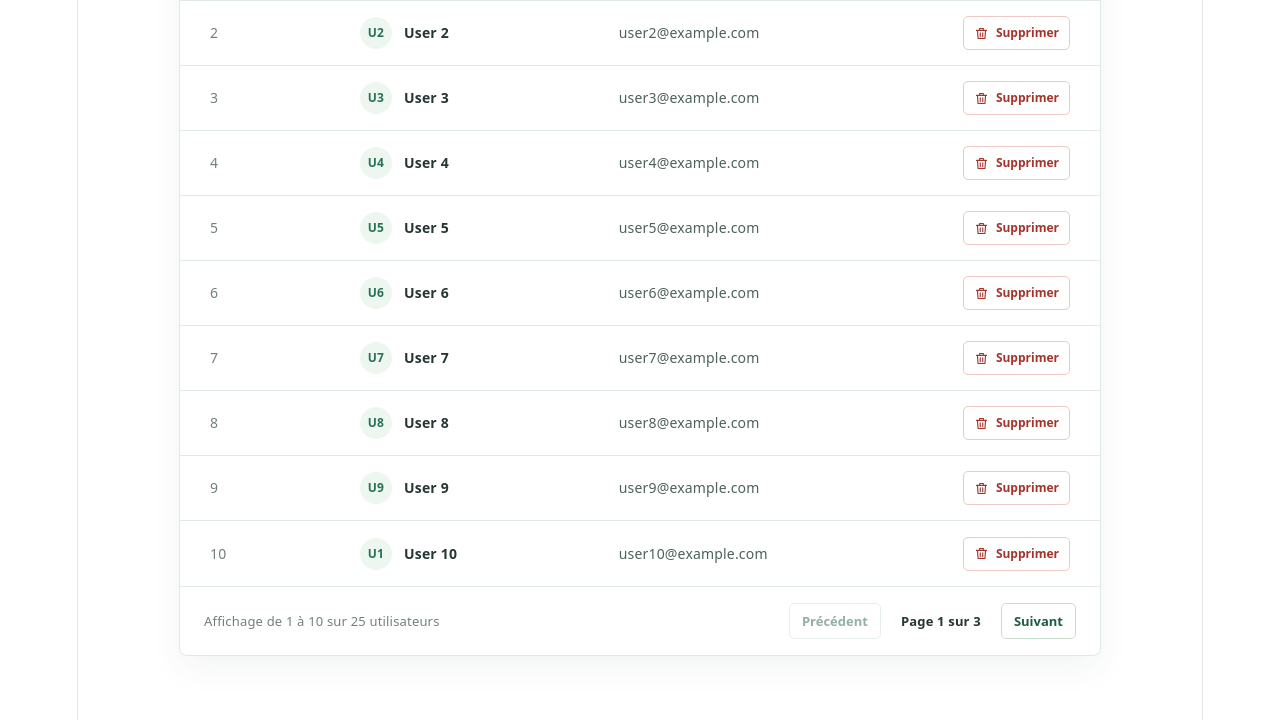
Test: UsersList changement de page sans décalage › affiche l’erreur avec Réessayer si le changement de page échoue
(page scrolled)
Click the button with class "next-page" at coordinates (1038, 621), box 1001,603 -> 1076,639
(page scrolled)
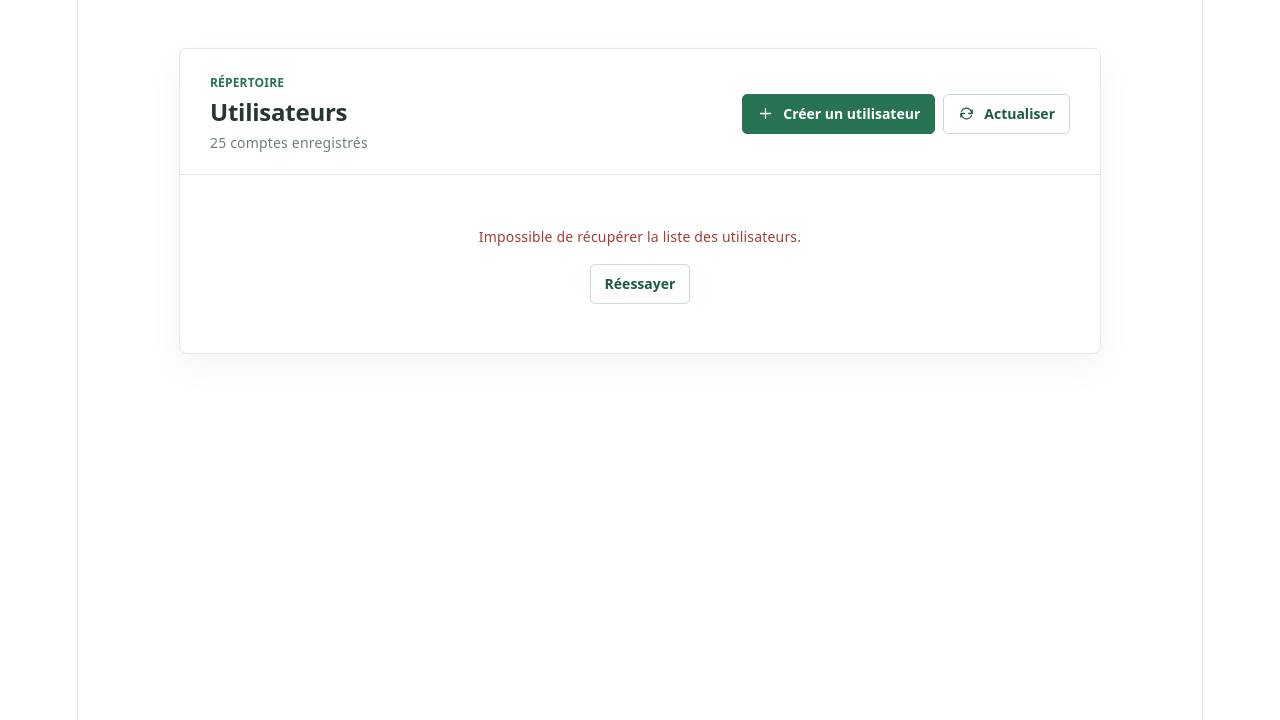
Expected: the message "Impossible de récupérer la liste des utilisateurs. Réessayer" is shown, 479,227 -> 801,304
Expected: the button with class "retry-button" is shown, 590,264 -> 690,304
